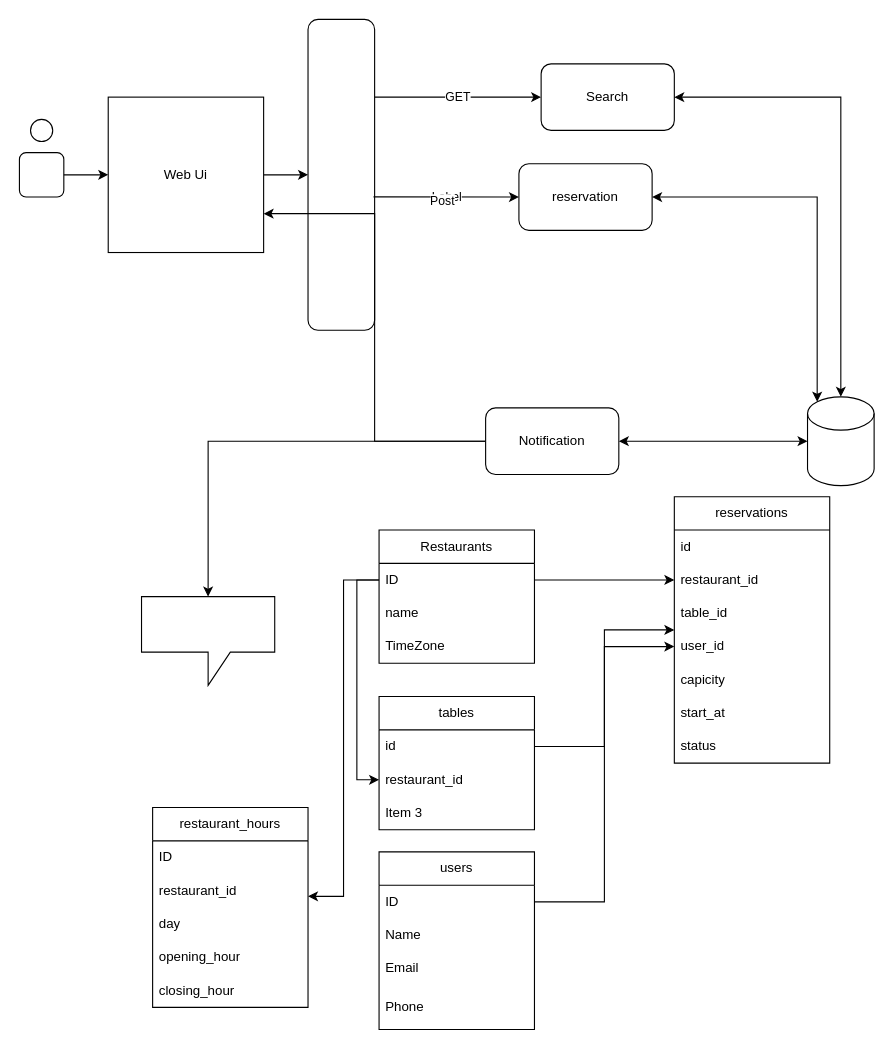
The diagram is 894 pixels wide and 1049 high, and some of its shapes have lost their labels. Here are the shapes that lost their labels. From the top down, the centre of each, then its label:
At pixel 41 174: "User".
At pixel 341 174: "CDN".
At pixel 840 441: "DB".
At pixel 207 640: "Email/SMS".
